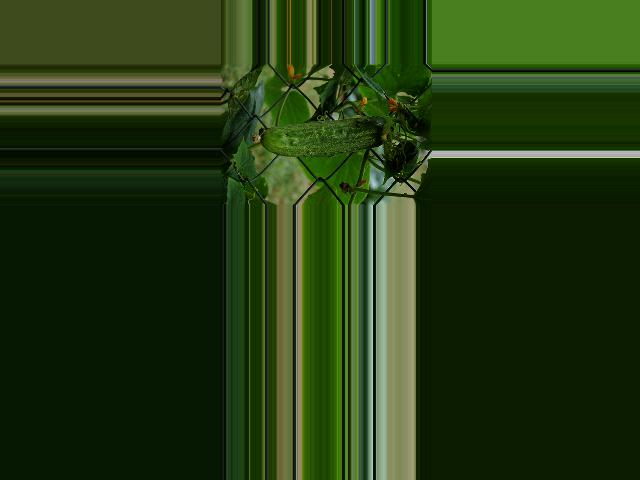cucumber: (252, 117, 392, 157)
